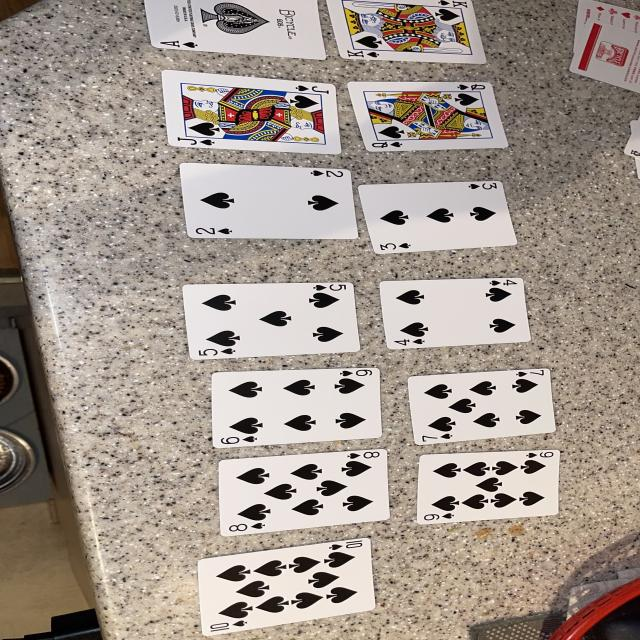10 of spades: (198, 538, 376, 636)
2 of spades: (180, 162, 358, 239)
3 of spades: (358, 181, 518, 254)
4 of spades: (380, 278, 531, 349)
5 of spades: (182, 282, 360, 360)
6 of spades: (211, 368, 382, 448)
7 of spades: (409, 369, 556, 445)
8 of spades: (218, 449, 389, 536)
9 of spades: (416, 450, 560, 525)
Ace of spades: (144, 0, 327, 60)
Jack of spades: (162, 70, 340, 154)
King of spades: (327, 0, 484, 64)
Queen of spades: (347, 81, 507, 151)
